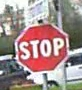stop: (13, 22, 68, 73)
